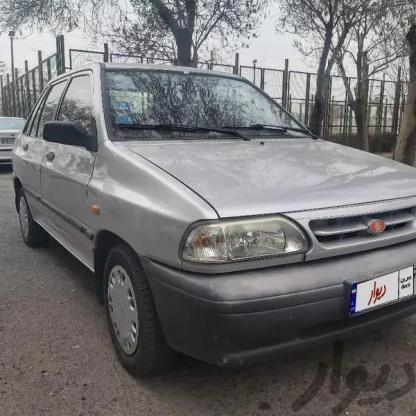Car: (0, 54, 416, 358), (0, 103, 35, 194)
